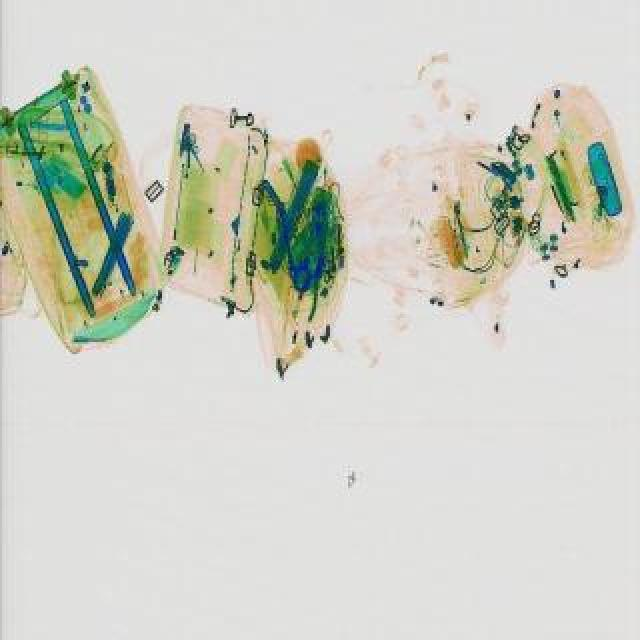wrench: (288, 244, 340, 324)
